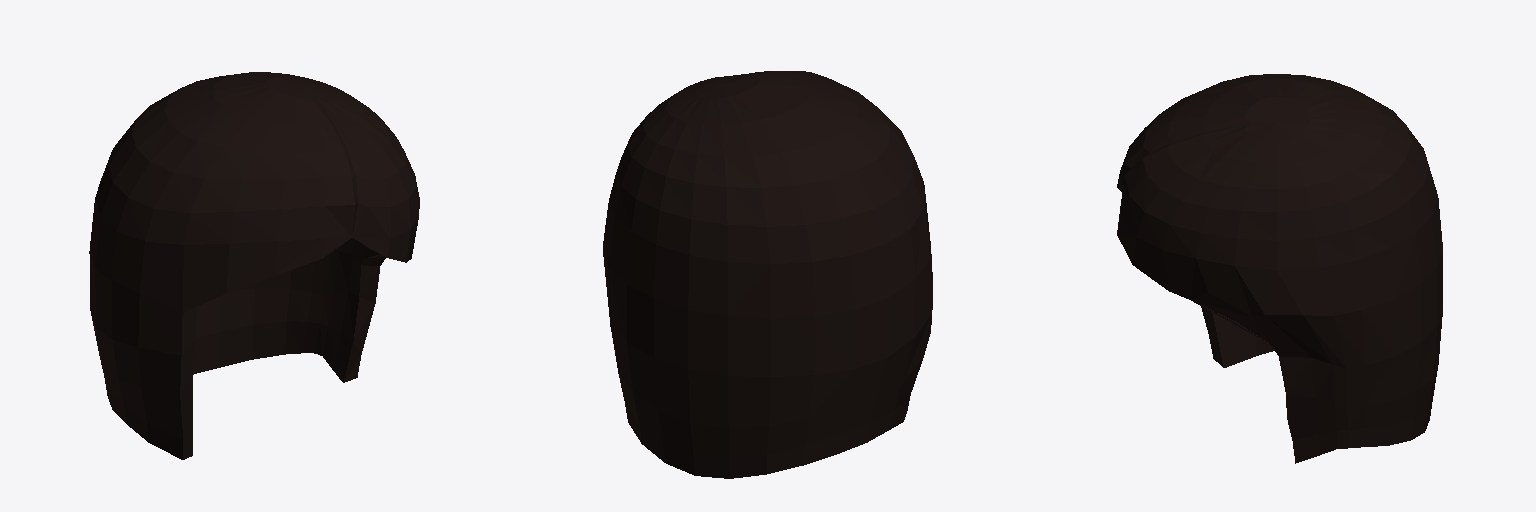
File: rogueHairC.obj
3 renders of one model, left to right at view 1: azimuth 30°, elevation 25°; view 2: azimuth 150°, elevation 25°; view 3: azimuth 270°, elevation 25°, orthographic.
Visible parts, largest first — view 1: rogueHairC_Cube.3529; view 2: rogueHairC_Cube.3529; view 3: rogueHairC_Cube.3529.
Boxes of the visible parts, x1=… form: rogueHairC_Cube.3529: x1=89, y1=72, x2=419, y2=459; rogueHairC_Cube.3529: x1=603, y1=71, x2=932, y2=478; rogueHairC_Cube.3529: x1=1117, y1=74, x2=1442, y2=463.
Size of the model in its own units: 1.12 by 1.22 by 1.09.